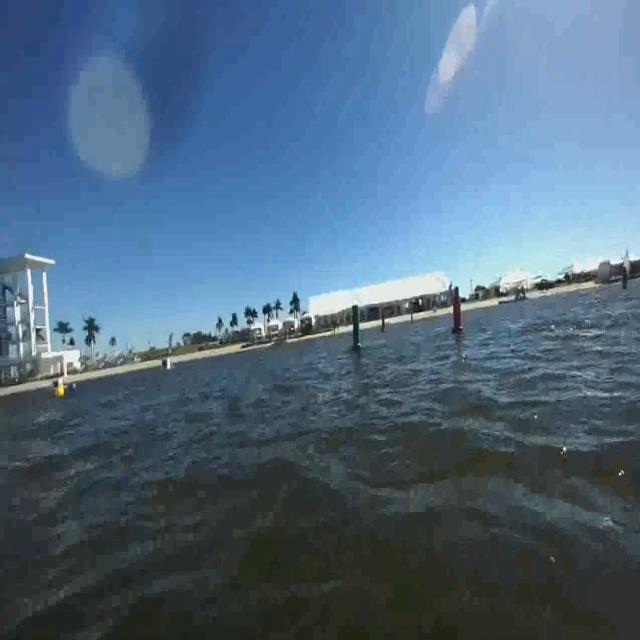green-column-buoy: (350, 306, 364, 355)
red-column-buoy: (450, 288, 466, 337)
yellow-duck: (58, 383, 66, 399)
